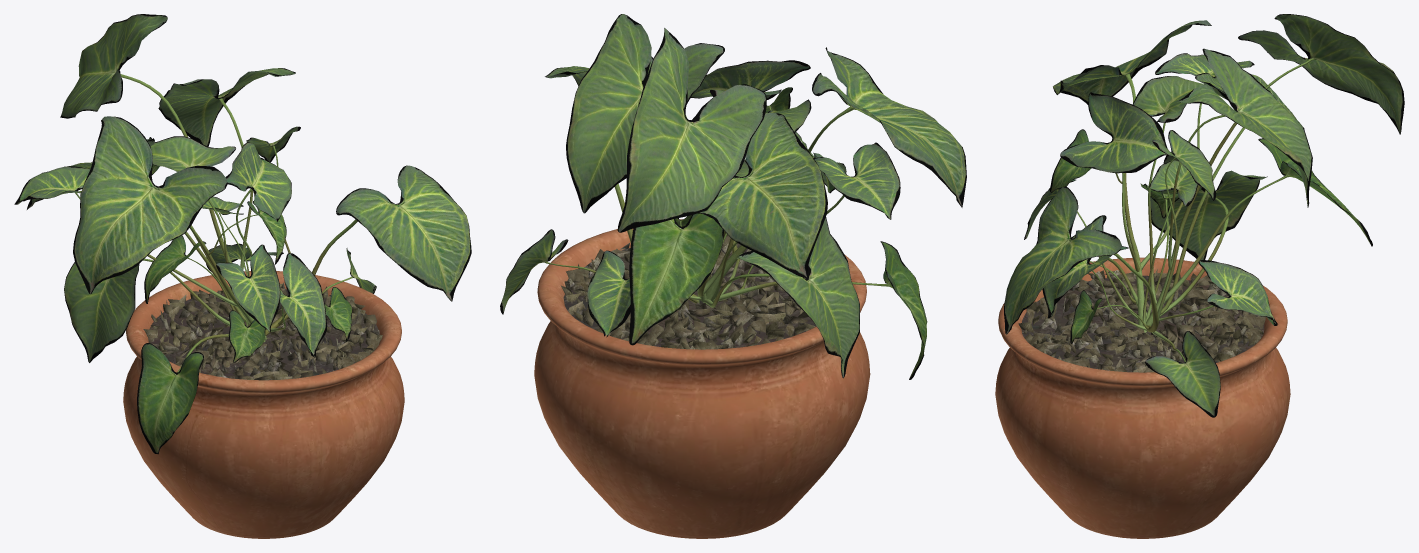
The model's file is potted_plant_02.glb.
3 renders of one model, left to right at view 1: azimuth 30°, elevation 25°; view 2: azimuth 150°, elevation 25°; view 3: azimuth 270°, elevation 25°, orthographic. The views are drawn at different scales.
Visible parts, largest first — view 1: potted_plant_02_leaves, potted_plant_02_pot; view 2: potted_plant_02_leaves, potted_plant_02_pot; view 3: potted_plant_02_pot, potted_plant_02_leaves.
Boxes of the visible parts, x1,y1,x2,y2 form: potted_plant_02_leaves: [14, 14, 471, 454]; potted_plant_02_pot: [123, 271, 404, 538]; potted_plant_02_leaves: [500, 14, 966, 379]; potted_plant_02_pot: [534, 219, 870, 538]; potted_plant_02_pot: [995, 257, 1290, 538]; potted_plant_02_leaves: [1004, 14, 1404, 417].
Bounding box in the file's own units: 0.7012 × 0.8412 × 0.6574.
Materials: 2 (2 with a texture image).
